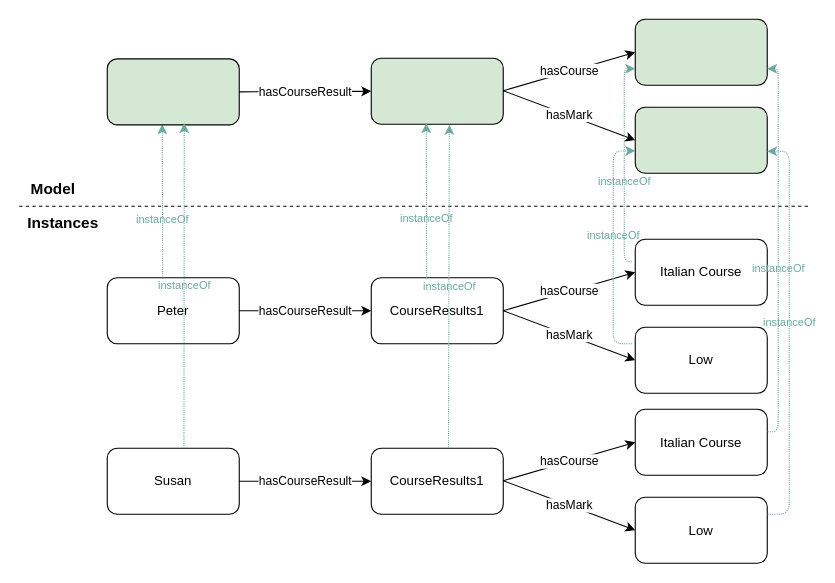
This 835x583 diagram has some shape labels left out. Here are the shapes that lost their labels. From the top down, the box of each, then its label:
(634, 18, 767, 85): Course
(106, 58, 239, 125): Student
(370, 57, 503, 124): CourseResults
(634, 106, 767, 173): Mark
